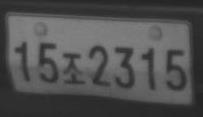1: (139, 47, 160, 91), (13, 40, 32, 82)
2: (88, 44, 111, 87)
3: (113, 45, 136, 89)
5: (165, 48, 188, 92), (37, 41, 59, 84)
조: (61, 51, 85, 85)
